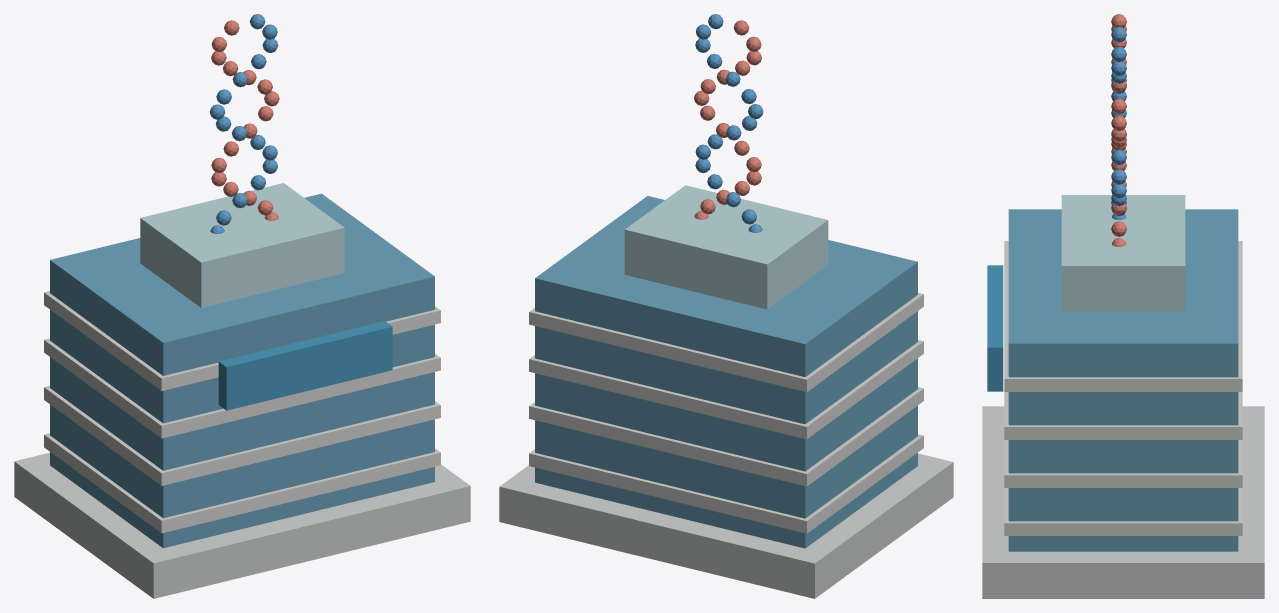
Rendered from research_institute.glb.
3 views of the same model, side by side, from view 1: azimuth 30°, elevation 25°; view 2: azimuth 150°, elevation 25°; view 3: azimuth 270°, elevation 25° (orthographic).
Parts seen in each view (by area): view 1: main, base, glass_lab, research_sign, band_0, band_1, band_2, band_3; view 2: main, base, glass_lab, band_2, band_1, band_0, band_3; view 3: main, base, glass_lab, band_3, band_0, band_1, band_2, research_sign.
Boxes of the visible parts, <box> form: main: <box>50,193,434,548</box>; base: <box>14,452,470,598</box>; glass_lab: <box>140,183,344,307</box>; research_sign: <box>218,321,392,410</box>; band_0: <box>44,433,440,533</box>; band_1: <box>44,386,440,485</box>; band_2: <box>44,338,440,438</box>; band_3: <box>44,291,440,390</box>; main: <box>535,196,917,548</box>; base: <box>499,453,953,598</box>; glass_lab: <box>624,185,828,309</box>; band_2: <box>529,340,923,439</box>; band_1: <box>529,387,923,486</box>; band_0: <box>529,434,923,533</box>; band_3: <box>529,292,923,392</box>; main: <box>1008,209,1238,551</box>; base: <box>982,406,1264,598</box>; glass_lab: <box>1061,195,1185,311</box>; band_3: <box>1004,241,1242,391</box>; band_0: <box>1004,488,1242,535</box>; band_1: <box>1004,440,1242,487</box>; band_2: <box>1004,392,1242,439</box>; research_sign: <box>987,265,1003,391</box>.
Size of the model in its own units: 4.2 by 6.24 by 3.2.
